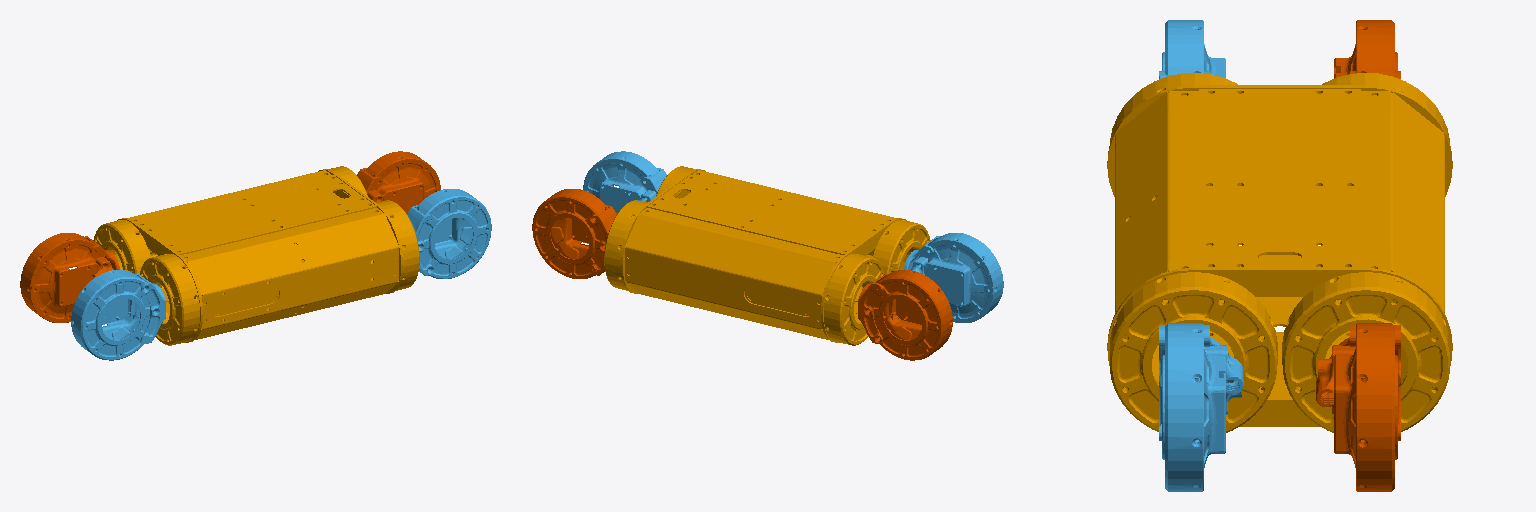
URDF robot description (mini_cheetah):
<?xml version="1.0" ?>
<robot name="mini_cheetah">
<!-- Mini Cheetah "rotor" URDF -->

<!-- 
This URDF contains information for the MIT Mini Cheetah, suitable for use in
IsaacGym
Rotor inertia approximations are included via the "armature" property 

Rotor mass: 
    0.055 kg 
Rotor inertia: 
    63e-6 kgm2 on axis of rotation 
Gearing: 
    Ab/ad: 6 
    Hip:   6 
    Knee:  9.33
Armature inertia:
    Ab/ad: 6*^2*63e-6 = 0.002268
    Hip:   6^2*63e-6 = 0.002268
    Knee:  9.33^2*63e-6 = 0.005484
Rotor damping: 
    0.01 Nms
Rotor dry friction: 
    Not used - calculated in Robot-Software as q_dot*dryFriction, but IsaacGym
    calculated dry friction from the applied normal force on the joint
    0.2 Nm/s
-->

<!-- Base -->
<link name="base">
    <inertial>
        <!-- Rotor mass added directly to base of robot -->
        <!-- Rotor masses don't move much relative to base, easier bookkeeping -->
        <!-- Base body mass -->
        <!-- <mass value="3.3"/>  -->
        <mass value="3.96"/>        <!-- Rotor mass: 12 motors * 0.055 kg / motor -->
        <origin xyz="0.0 0.0 0.0"/>
        <inertia ixx="0.011253" ixy="0" ixz="0" iyy="0.362030" iyz="0" izz="0.042673"/>
    </inertial>
    <visual>
        <geometry><mesh filename="meshes/mini_vision_body.dae"/></geometry>
        <origin rpy="0.0 0.0 0.0" xyz="0.0 0.0 0.0"/>
    </visual>
    <collision>
        <geometry><box size="0.30 0.20 0.10"/></geometry>
        <origin rpy="0 0 0" xyz="0 0 0.01"/>
    </collision>
</link>


<!-- RF Leg -->
<!-- RF Hip and HAA -->
<joint name="1_rf_haa" type="revolute">
    <axis xyz="1 0 0"/>
    <origin rpy="0 0 0" xyz="0.14775 -0.049 0.0"/>
    <parent link="base"/>
    <child link="rf_hip"/>
    <limit effort="18" lower="-1.5" upper="1.5" velocity="41" armature="0.002268" damping="0.01"/>
</joint>

<link name="rf_hip">
    <inertial>
        <mass value="0.54"/>
        <origin xyz="0.055 -0.036 0."/>
        <inertia ixx="0.000381" ixy="0.000058" ixz="0.00000045" iyy="0.000560" iyz="0.00000095" izz="0.000444"/>
    </inertial>
    <visual>
        <geometry>
            <mesh filename="meshes/mini_vision_abd.dae"/>
        </geometry>
        <origin rpy="0.0 0.0 0.0" xyz="0.0 0.0 0.0"/>
    </visual>
    <!-- <collision>
        <geometry><cylinder length ="0.025" radius = "0.05"/></geometry>
        <origin rpy="1.57079632679 0.0 0.0" xyz="0.052 -0.02 0.0"/>
    </collision> -->
</link>

<!-- RF Thigh and HFE -->
<joint name="rf_hfe" type="revolute">
    <axis xyz="0 -1 0"/>
    <origin rpy="0.0 0.0 0.0" xyz="0.055 -0.019 0.00"/>
    <parent link="rf_hip"/>
    <child link="rf_thigh"/>
    <limit effort="18" lower="-2.6" upper="2.6" velocity="41" armature="0.002268" damping="0.01"/>
</joint>

<link name="rf_thigh">
    <inertial>
        <mass value="0.634"/>
        <origin xyz="0.0 -0.016 -0.02"/>
        <inertia ixx="0.001983" ixy="0.000245" ixz="0.000013" iyy="0.002103" iyz="0.0000015" izz="0.000408"/>
    </inertial>
    <visual>
        <geometry>
            <mesh filename="meshes/mini_vision_upper_leg.dae"/>
        </geometry>
        <origin rpy="0.0 0.0 0.0" xyz="0.0 0.0 0.0"/>
    </visual>
    <collision>
        <geometry>
            <cylinder length ="0.17" radius = "0.015"/>
        </geometry>
        <origin rpy="0 0 0" xyz="0 -0.05 -0.092"/>
    </collision>
</link>

<!-- RF Shank and KFE -->
<joint name="rf_kfe" type="revolute">
    <axis xyz="0 -1 0"/>
    <origin rpy="0.0 0 0.0" xyz="0.0 -0.049 -0.2085"/>
    <parent link="rf_thigh"/>
    <child link="rf_shank"/>
    <limit effort="28" lower="-2.7" upper="2.7" velocity="26.8" armature="0.005484" damping="0.01"/>
</joint>

<link name="rf_shank">
    <inertial>
        <mass value="0.064"/>
        <origin xyz="0.0 0.0 -0.061"/>
        <inertia ixx="0.000245" ixy="0" ixz="0.0" iyy="0.000248" iyz="0" izz="0.000006"/>
    </inertial>
    <visual>
        <geometry>
            <mesh filename="meshes/lower_leg.dae"/>
        </geometry>
        <origin rpy="0.0 0.0 0.0" xyz="0.0 0.0 0.0"/>
    </visual>
    <collision>
        <geometry>
            <cylinder length ="0.1" radius = "0.01"/>
        </geometry>
        <origin rpy="0 0 0" xyz="0 0 -0.1"/>
    </collision>
</link>

<!-- RF FOOT -->
<joint name="rf_shank_to_foot" type="fixed" dont_collapse="true">
    <parent link="rf_shank"/>
    <child link="rf_foot"/>
    <origin rpy="0.0 0.0 0.0" xyz="0.0 0.0 -0.22"/>
</joint>

<link name="rf_foot">
    <collision>
        <origin xyz="0 0.0 0.024"/>
        <geometry><sphere radius="0.0202"/></geometry>
    </collision>
    <inertial>
        <origin rpy="0 0 0" xyz="0 0 0.0"/>
        <mass value="0.01"/>
        <inertia ixx="0" ixy="0" ixz="0" iyy="0" iyz="0" izz="0"/>
    </inertial>
</link>

<!-- LF Leg -->
<!-- LF Hip and HAA -->
<joint name="2_lf_haa" type="revolute">
    <axis xyz="1 0 0"/>
    <origin rpy="0 0 0" xyz="0.14775 0.049 0.0"/>
    <parent link="base"/>
    <child link="lf_hip"/>
    <limit effort="18" lower="-1.5" upper="1.5" velocity="41" armature="0.002268" damping="0.01"/>
</joint>

<link name="lf_hip">
    <inertial>
        <mass value="0.54"/>
        <origin xyz="0.055 0.036 0."/>
        <inertia ixx="0.000381" ixy="0.000058" ixz="0.00000045" iyy="0.000560" iyz="0.00000095" izz="0.000444"/>
    </inertial>
    <visual>
        <geometry><mesh filename="meshes/mini_vision_abd.dae"/></geometry>
        <origin rpy="3.141592 0.0 0.0" xyz="0.0 0.0 0.0"/>
    </visual>
    <!-- <collision>
        <geometry><cylinder length ="0.025" radius = "0.05"/></geometry>
        <origin rpy="1.57079632679 0.0 0.0" xyz="0.052 0.02 0.0"/>
    </collision> -->
</link>

<!-- LF Thigh and HFE -->
<joint name="lf_hfe" type="revolute">
    <axis xyz="0 -1 0"/>
    <origin rpy="0.0 0.0 0.0" xyz="0.055 0.019 0.00"/>
    <parent link="lf_hip"/>
    <child link="lf_thigh"/>
    <limit effort="18" lower="-2.6" upper="2.6" velocity="41" armature="0.002268" damping="0.01"/>
</joint>

<link name="lf_thigh">
    <inertial>
        <mass value="0.634"/>
        <origin xyz="0.0 0.016 -0.02"/>
        <inertia ixx="0.001983" ixy="0.000245" ixz="0.000013" iyy="0.002103" iyz="0.0000015" izz="0.000408"/>
    </inertial>
    <visual>
        <geometry>
            <mesh filename="meshes/mini_vision_upper_leg.dae"/>
        </geometry>
        <origin rpy="0.0 0 3.141592" xyz="0.0 0.0 0.0"/>
    </visual>
    <collision>
        <geometry><cylinder length ="0.17" radius = "0.015"/></geometry>
        <origin rpy="0 0 0" xyz="0 0.05 -0.092"/>
    </collision>
</link>

<!-- LF Shank and KFE -->
<joint name="lf_kfe" type="revolute">
    <axis xyz="0 -1 0"/>
    <origin rpy="0.0 0 0.0" xyz="0.0 0.049 -0.2085"/>
    <parent link="lf_thigh"/>
    <child link="lf_shank"/>
    <limit effort="28" lower="-2.7" upper="2.7" velocity="26.8" armature="0.005484" damping="0.01"/>
</joint>

<link name="lf_shank">
    <inertial>
        <mass value="0.064"/>
        <origin xyz="0.0 0.0 -0.061"/>
        <inertia ixx="0.000245" ixy="0" ixz="0.0" iyy="0.000248" iyz="0" izz="0.000006"/>
    </inertial>
    <visual>
        <geometry>
            <mesh filename="meshes/lower_leg.dae"/>
        </geometry>
        <origin rpy="0.0 0.0 0.0" xyz="0.0 0.0 0.0"/>
    </visual>
    <collision>
        <geometry>
            <cylinder length ="0.1" radius = "0.01"/>
        </geometry>
        <origin rpy="0 0 0" xyz="0 0 -0.1"/>
    </collision>
</link>

<!-- LF FOOT -->
<joint name="lf_shank_to_foot" type="fixed" dont_collapse="true">
    <parent link="lf_shank"/>
    <child link="lf_foot"/>
    <origin rpy="0.0 0.0 0.0" xyz="0.0 0.0 -0.22"/>
</joint>

<link name="lf_foot">
    <collision>
        <origin xyz="0 0.0 0.024"/>
        <geometry><sphere radius="0.0202"/></geometry>
    </collision>
    <inertial>
        <origin rpy="0 0 0" xyz="0 0 0.0"/>
        <mass value="0.01"/>
        <inertia ixx="0" ixy="0" ixz="0" iyy="0" iyz="0" izz="0"/>
    </inertial>
</link>

<!-- RH Leg -->
<!-- RH Hip and HAA -->
<joint name="3_rh_haa" type="revolute">
    <axis xyz="-1 0 0"/>
    <origin rpy="0 3.141592 0" xyz="-0.14775 -0.049 0.0"/>
    <parent link="base"/>
    <child link="rh_hip"/>
    <limit effort="18" lower="-1.5" upper="1.5" velocity="41" armature="0.002268" damping="0.01"/>
</joint>

<link name="rh_hip">
    <inertial>
        <mass value="0.54"/>
        <origin xyz="0.055 -0.036 0."/>
        <inertia ixx="0.000381" ixy="0.000058" ixz="0.00000045" iyy="0.000560" iyz="0.00000095" izz="0.000444"/>
    </inertial>
    <visual>
        <geometry>
            <mesh filename="meshes/mini_vision_abd.dae"/>
        </geometry>
        <origin rpy="0.0 0.0 0.0" xyz="0.0 0.0 0.0"/>
    </visual>
    <!-- <collision>
        <geometry><cylinder length ="0.025" radius = "0.05"/></geometry>
        <origin rpy="1.57079632679 0.0 0.0" xyz="0.052 -0.02 0.0"/>
    </collision> -->
</link>

<!-- RH Thigh and HFE -->
<joint name="rh_hfe" type="revolute">
    <axis xyz="0 -1 0"/>
    <origin rpy="0.0 3.141592 0.0" xyz="0.055 -0.019 0.00"/>
    <parent link="rh_hip"/>
    <child link="rh_thigh"/>
    <limit effort="18" lower="-2.6" upper="2.6" velocity="41" armature="0.002268" damping="0.01"/>
</joint>

<link name="rh_thigh">
    <inertial>
        <mass value="0.634"/>
        <origin xyz="0.0 -0.016 -0.02"/>
        <inertia ixx="0.001983" ixy="0.000245" ixz="0.000013" iyy="0.002103" iyz="0.0000015" izz="0.000408"/>
    </inertial>
    <visual>
        <geometry>
            <mesh filename="meshes/mini_vision_upper_leg.dae"/>
        </geometry>
        <origin rpy="0.0 0.0 0.0" xyz="0.0 0.0 0.0"/>
    </visual>
    <collision>
        <geometry>
            <cylinder length ="0.17" radius = "0.015"/>
        </geometry>
        <origin rpy="0 0 0" xyz="0 -0.05 -0.092"/>
    </collision>
</link>

<!-- RH Shank and KFE -->
<joint name="rh_kfe" type="revolute">
    <axis xyz="0 -1 0"/>
    <origin rpy="0.0 0 0.0" xyz="0.0 -0.049 -0.2085"/>
    <parent link="rh_thigh"/>
    <child link="rh_shank"/>
    <limit effort="28" lower="-2.7" upper="2.7" velocity="26.8" armature="0.005484" damping="0.01"/>
</joint>

<link name="rh_shank">
    <inertial>
        <mass value="0.064"/>
        <origin xyz="0.0 0.0 -0.061"/>
        <inertia ixx="0.000245" ixy="0" ixz="0.0" iyy="0.000248" iyz="0" izz="0.000006"/>
    </inertial>
    <visual>
        <geometry>
            <mesh filename="meshes/lower_leg.dae"/>
        </geometry>
        <origin rpy="0.0 0.0 0.0" xyz="0.0 0.0 0.0"/>
    </visual>
    <collision>
        <geometry>
            <cylinder length ="0.1" radius = "0.01"/>
        </geometry>
        <origin rpy="0 0 0" xyz="0 0 -0.1"/>
    </collision>
</link>

<!-- RH FOOT -->
<joint name="rh_shank_to_foot" type="fixed" dont_collapse="true">
    <parent link="rh_shank"/>
    <child link="rh_foot"/>
    <origin rpy="0.0 0.0 0.0" xyz="0.0 0.0 -0.22"/>
</joint>

<link name="rh_foot">
    <collision>
        <origin xyz="0 0.0 0.024"/>
        <geometry><sphere radius="0.0202"/></geometry>
    </collision>
    <inertial>
        <origin rpy="0 0 0" xyz="0 0 -0.0"/>
        <mass value="0.01"/>
        <inertia ixx="0" ixy="0" ixz="0" iyy="0" iyz="0" izz="0"/>
    </inertial>
</link>

<!-- LH Leg -->
<!-- LH Hip and HAA -->
<joint name="4_lh_haa" type="revolute">
    <axis xyz="-1 0 0"/>
    <origin rpy="0 3.141592 0" xyz="-0.14775 0.049 0.0"/>
    <parent link="base"/>
    <child link="lh_hip"/>
    <limit effort="18" lower="-1.5" upper="1.5" velocity="41" armature="0.002268" damping="0.01"/>
</joint>

<link name="lh_hip">
    <inertial>
        <mass value="0.54"/>
        <origin xyz="0.055 0.036 0."/>
        <inertia ixx="0.000381" ixy="0.000058" ixz="0.00000045" iyy="0.000560" iyz="0.00000095" izz="0.000444"/>
    </inertial>
    <visual>
        <geometry> <mesh filename="meshes/mini_vision_abd.dae"/> </geometry>
        <origin rpy="3.141592 0.0 0.0" xyz="0.0 0.0 0.0"/>
    </visual>
    <!-- <collision>
        <geometry><cylinder length ="0.025" radius = "0.05"/></geometry>
        <origin rpy="1.57079632679 0.0 0.0" xyz="0.052 0.02 0.0"/>
    </collision> -->
</link>

<!-- LH Thigh and HFE -->
<joint name="lh_hfe" type="revolute">
    <axis xyz="0 -1 0"/>
    <origin rpy="0.0 3.141592 0.0" xyz="0.055 0.019 0.00"/>
    <parent link="lh_hip"/>
    <child link="lh_thigh"/>
    <limit effort="18" lower="-2.6" upper="2.6" velocity="41" armature="0.002268" damping="0.01"/>
</joint>

<link name="lh_thigh">
    <inertial>
        <mass value="0.634"/>
        <origin xyz="0.0 0.016 -0.02"/>
        <inertia ixx="0.001983" ixy="0.000245" ixz="0.000013" iyy="0.002103" iyz="0.0000015" izz="0.000408"/>
    </inertial>
    <visual>
        <geometry>
            <mesh filename="meshes/mini_vision_upper_leg.dae"/>
        </geometry>
        <origin rpy="0.0 0 3.141592" xyz="0.0 0.0 0.0"/>
    </visual>
    <collision>
        <geometry>
            <cylinder length ="0.17" radius = "0.015"/>
        </geometry>
        <origin rpy="0 0 0" xyz="0 0.05 -0.092"/>
    </collision>
</link>

<!-- LH Shank and KFE -->
<joint name="lh_kfe" type="revolute">
    <axis xyz="0 -1 0"/>
    <origin rpy="0.0 0 0.0" xyz="0.0 0.049 -0.2085"/>
    <parent link="lh_thigh"/>
    <child link="lh_shank"/>
    <limit effort="28" lower="-2.7" upper="2.7" velocity="26.8" armature="0.005484" damping="0.01"/>
</joint>

<link name="lh_shank">
    <inertial>
        <mass value="0.064"/>
        <origin xyz="0.0 0.0 -0.061"/>
        <inertia ixx="0.000245" ixy="0" ixz="0.0" iyy="0.000248" iyz="0" izz="0.000006"/>
    </inertial>
    <visual>
        <geometry>
            <mesh filename="meshes/lower_leg.dae"/>
        </geometry>
        <origin rpy="0.0 0.0 3.141592" xyz="0.0 0.0 0.0"/>
    </visual>
    <collision>
        <geometry>
            <cylinder length ="0.1" radius = "0.01"/>
        </geometry>
        <origin rpy="0 0 0" xyz="0 0 -0.1"/>
    </collision>
</link>

<!-- LH FOOT -->
<joint name="lh_shank_to_foot" type="fixed" dont_collapse="true">
    <parent link="lh_shank"/>
    <child link="lh_foot"/>
    <origin rpy="0.0 0.0 0.0" xyz="0.0 0.0 -0.22"/>
</joint>

<link name="lh_foot">
    <collision>
        <origin xyz="0 0.0 0.024"/>
        <geometry><sphere radius="0.0202"/></geometry>
    </collision>
    <inertial>
        <origin rpy="0 0 0" xyz="0 0 0.0"/>
        <mass value="0.01"/>
        <inertia ixx="0" ixy="0" ixz="0" iyy="0" iyz="0" izz="0"/>
    </inertial>
</link>

</robot>

--- What the picture shows (computed from the rendered views, not written in the file) ---
Views: 3 orthographic renders of the robot side by side, from view 1: azimuth 30°, elevation 25°; view 2: azimuth 150°, elevation 25°; view 3: azimuth 270°, elevation 25°.
Model mini_cheetah with 17 links and 16 joints (12 revolute, 4 fixed), rooted at base, posed every joint at zero.
Links seen in each view (by area): view 1: base, rh_hip, rf_hip, lh_hip, lf_hip; view 2: base, lh_hip, lf_hip, rh_hip, rf_hip; view 3: base, lf_hip, rf_hip, rh_hip, lh_hip.
Boxes of the visible links, x1,y1,x2,y2 form: base: [93, 166, 419, 345]; rh_hip: [71, 270, 165, 360]; rf_hip: [407, 189, 491, 278]; lh_hip: [20, 233, 119, 322]; lf_hip: [357, 151, 440, 213]; base: [604, 166, 930, 345]; lh_hip: [858, 270, 952, 360]; lf_hip: [532, 189, 616, 278]; rh_hip: [904, 233, 1003, 322]; rf_hip: [583, 151, 666, 213]; base: [1107, 73, 1452, 432]; lf_hip: [1316, 323, 1400, 491]; rf_hip: [1159, 323, 1243, 491]; rh_hip: [1159, 20, 1225, 78]; lh_hip: [1334, 20, 1400, 78].
Bounding box of the posed robot: 0.5045 × 0.197 × 0.0985 m (x, y, z).
5 mesh visuals loaded from 4 distinct referenced files (2 Collada DAE); not drawn: 8 (reference not matched to a file when rendering).